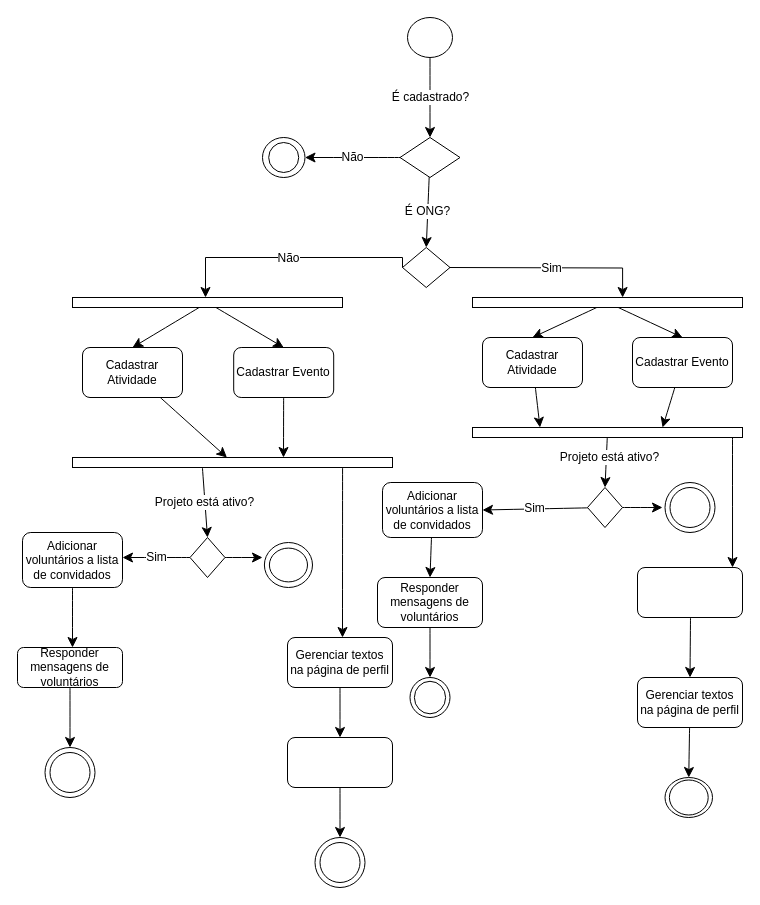
Image size: 760x905. Some labels were removed from this diagram. Here are the shapes that lost their labels. From the top down, the centre of each, then its label:
At [689,592]: "Gerenciar fotos na página de perfil".
At [339,762]: "Excluir".
